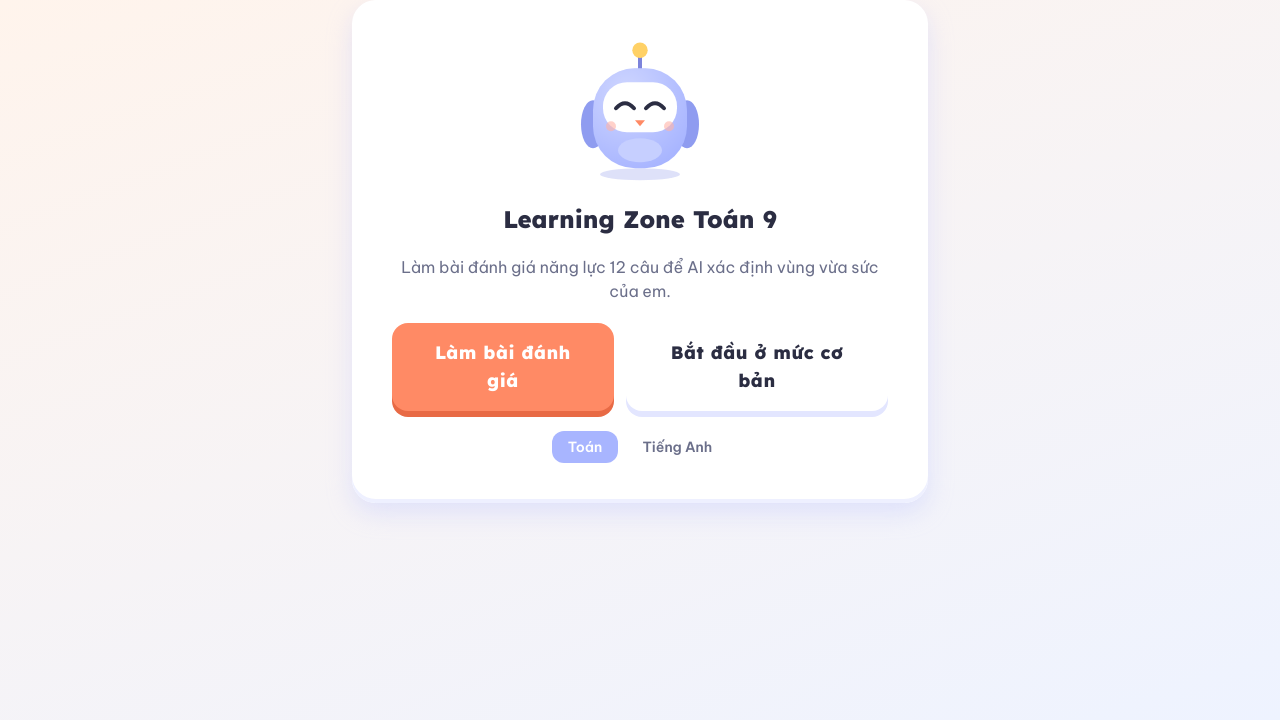
Scenario: LearningZonePage › seeds a basic zone and shows rings
The image size is (1280, 720).
Expected: the button "Làm bài đánh giá" is shown, [392,322,614,410]
Click the button "Bắt đầu ở mức cơ bản" at (757, 366), box [626,322,888,410]
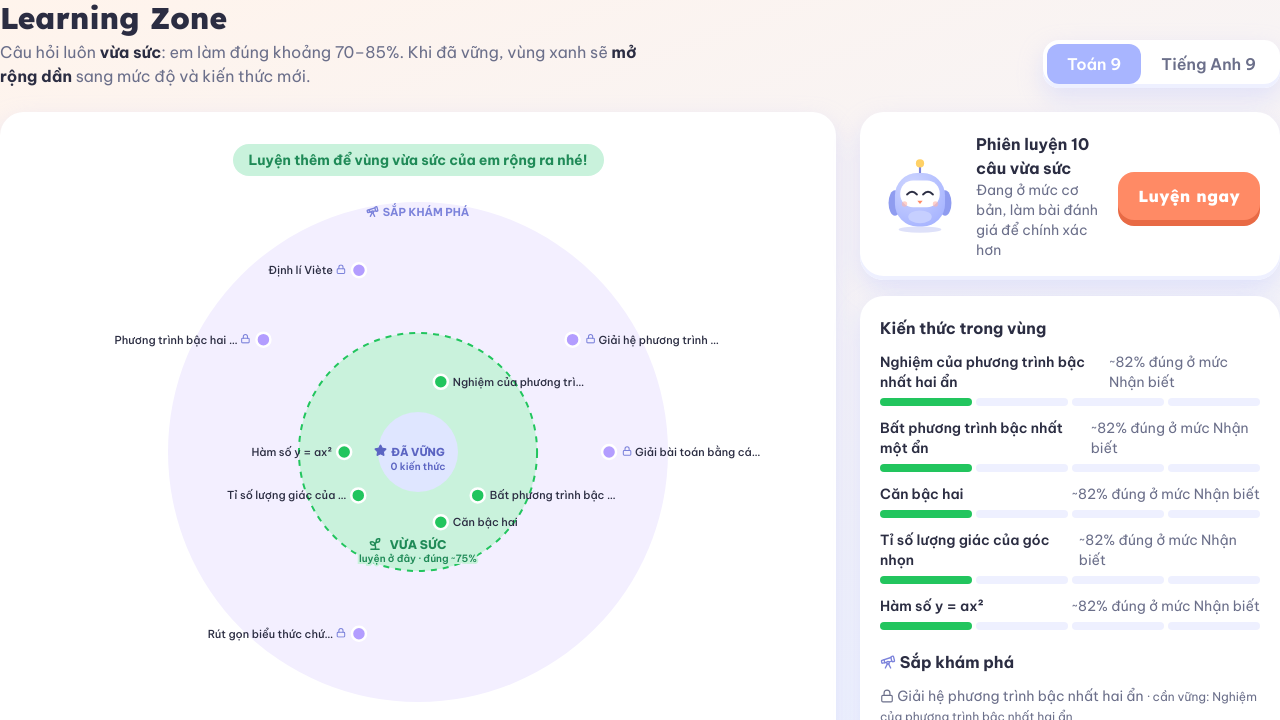
Now the picture named "Sơ đồ Learning Zone" is shown, box [48,192,788,712]
